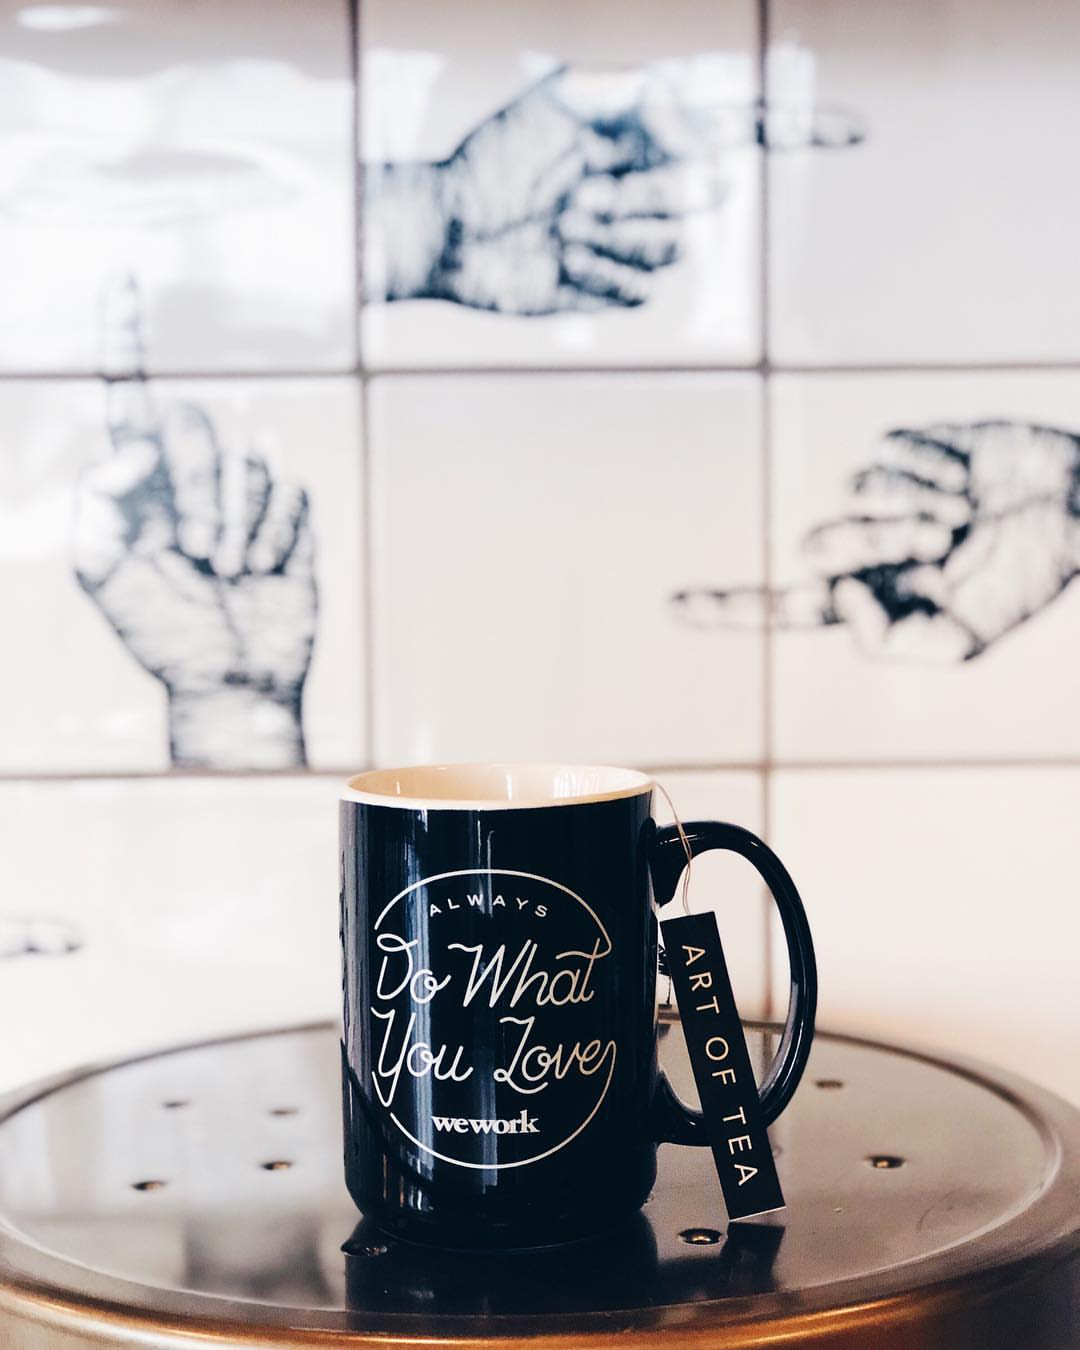wework: (428, 1105, 543, 1136)
